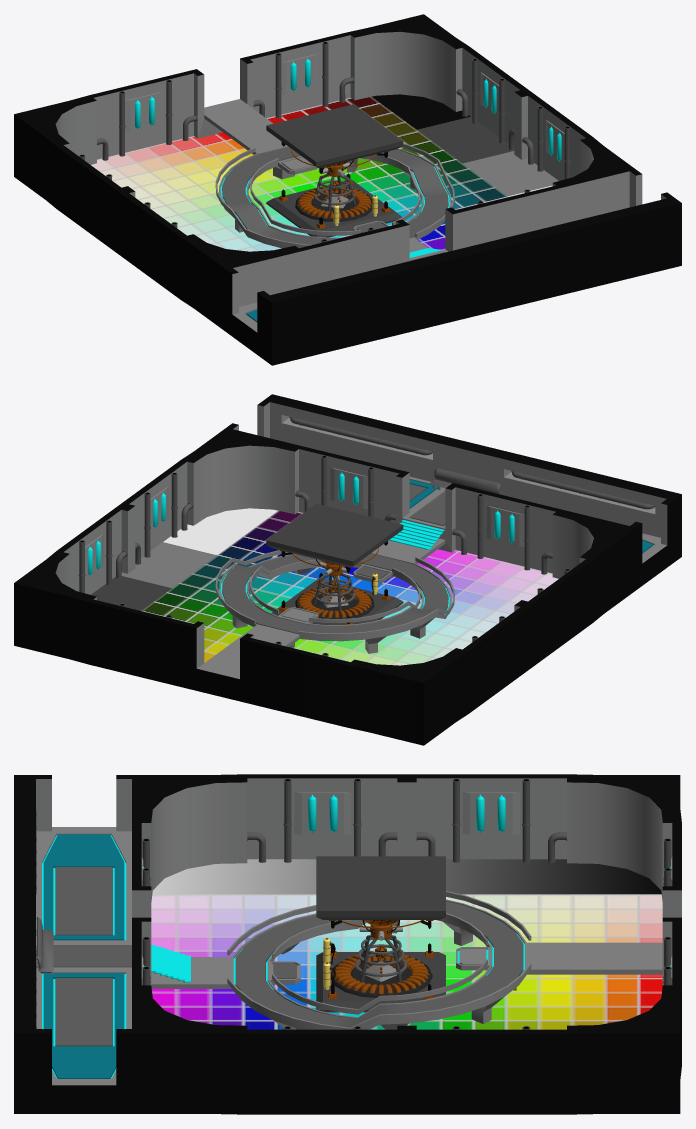
File: T-SplitCore.fbx
3 views of the same model, one above another, from view 1: azimuth 30°, elevation 25°; view 2: azimuth 150°, elevation 25°; view 3: azimuth 270°, elevation 25° (orthographic). The views are drawn at different scales.
Parts seen in each view (by area): view 1: T-SplitCore, Lava, T-SplitCoreGlass; view 2: T-SplitCore, Lava, T-SplitCoreGlass, T-SplitCoreStairs; view 3: T-SplitCore, Lava, T-SplitCoreLights, T-SplitCoreGlass, T-SplitCoreStairs.
Part boxes in pixels (<box>): T-SplitCore: <box>14,14,681,365</box>; Lava: <box>91,94,558,251</box>; T-SplitCoreGlass: <box>135,58,561,161</box>; T-SplitCore: <box>14,394,681,745</box>; Lava: <box>91,508,558,665</box>; T-SplitCoreGlass: <box>88,472,514,575</box>; T-SplitCoreStairs: <box>389,520,444,549</box>; T-SplitCore: <box>14,774,681,1114</box>; Lava: <box>151,859,662,1029</box>; T-SplitCoreLights: <box>42,835,524,1078</box>; T-SplitCoreGlass: <box>143,794,670,966</box>; T-SplitCoreStairs: <box>151,945,190,982</box>.
Size of the model in its own units: 3200 by 600 by 3480.
